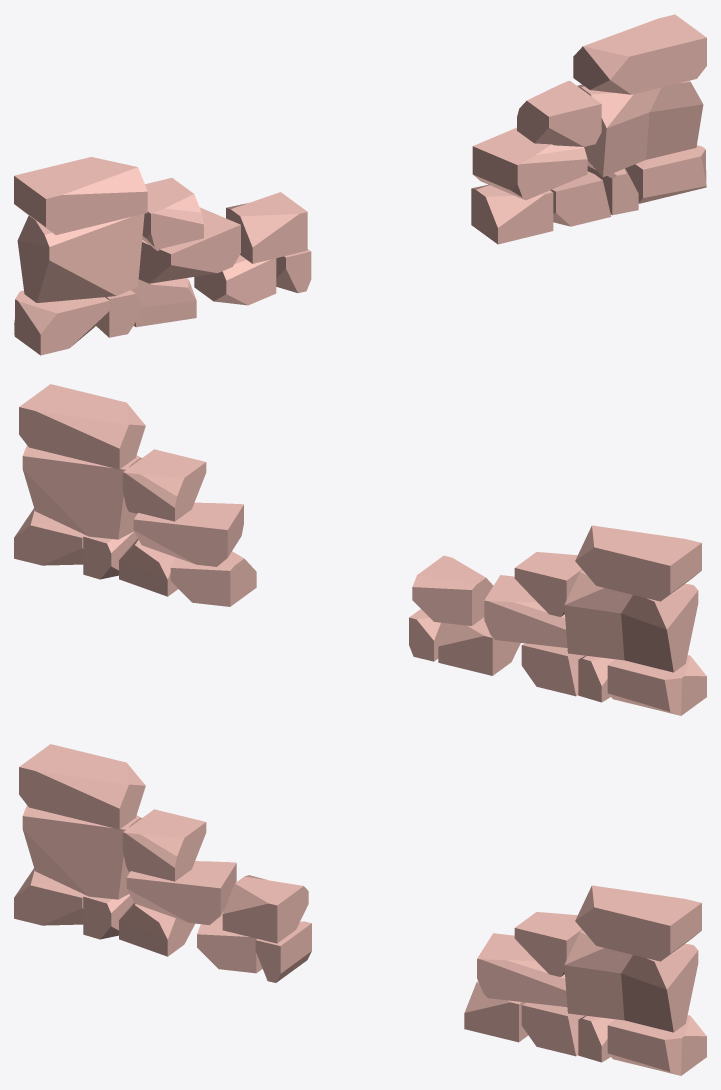
The model's file is Mega_Asset_s_Pack_Cube_225.FBX.
The picture shows the model from 3 angles, top to bottom: view 1: azimuth 30°, elevation 25°; view 2: azimuth 150°, elevation 25°; view 3: azimuth 330°, elevation 25°; orthographic projection.
Parts seen in each view (by area): view 1: Mega_Asset_s_Pack_Cube_225; view 2: Mega_Asset_s_Pack_Cube_225; view 3: Mega_Asset_s_Pack_Cube_225.
Boxes of the visible parts, x1,y1,x2,y2 form: Mega_Asset_s_Pack_Cube_225: (14, 14, 706, 355); Mega_Asset_s_Pack_Cube_225: (14, 384, 706, 715); Mega_Asset_s_Pack_Cube_225: (14, 744, 706, 1075).
Size of what is drawn, in the model's own units: 778 by 96.55 by 172.
